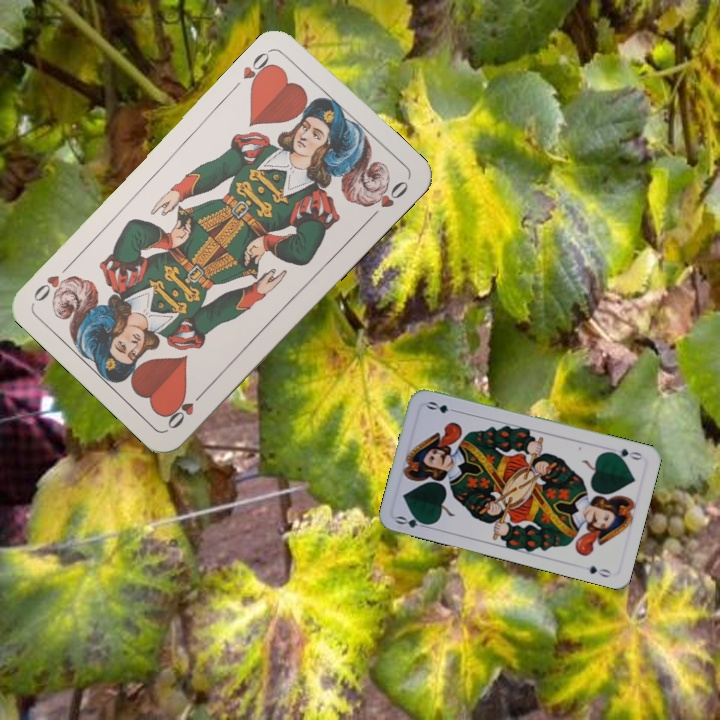GO: (392, 511, 433, 531), (605, 444, 645, 463)
HO: (162, 385, 209, 432), (238, 45, 278, 93)
